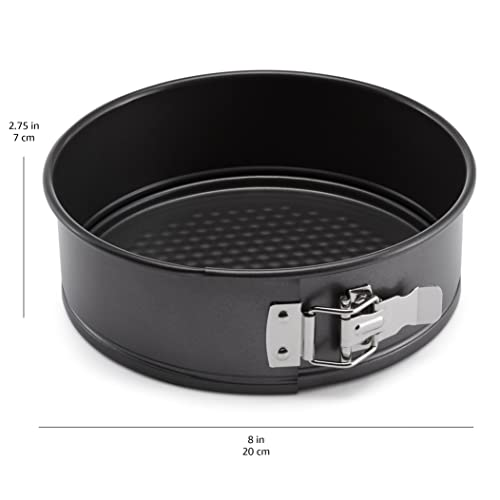20em: (243, 448, 269, 455)
